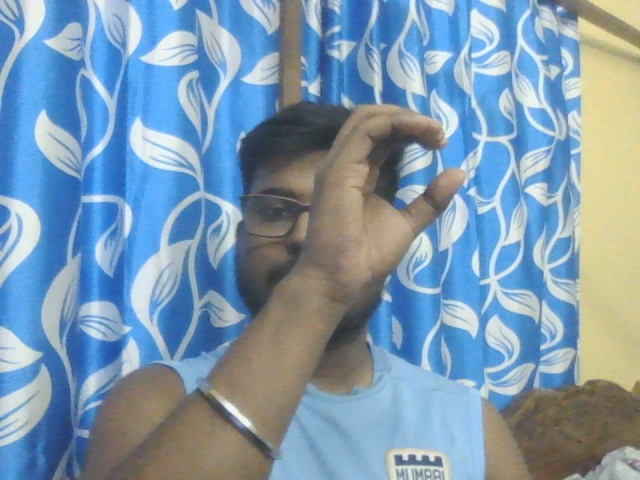C: (309, 105, 468, 284)
